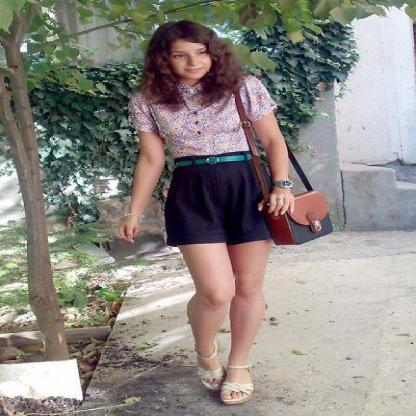bag: (266, 195, 338, 245)
shirt: (124, 75, 276, 158)
shoe: (198, 364, 252, 400)
shorts: (164, 159, 281, 247)
